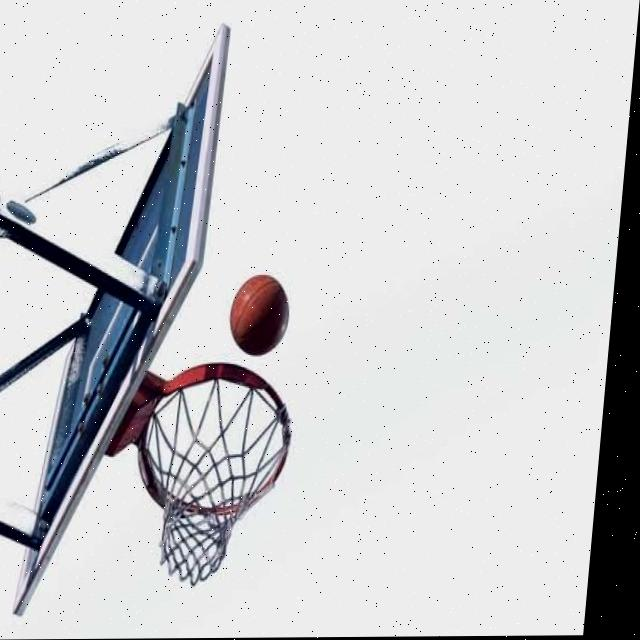Basketball: (225, 277, 293, 360)
